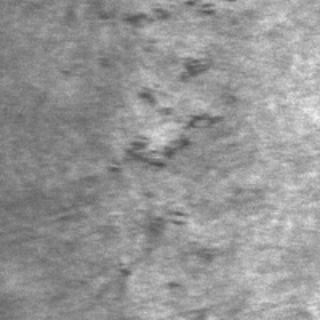rolled pit: (112, 0, 218, 172), (110, 187, 218, 291)
